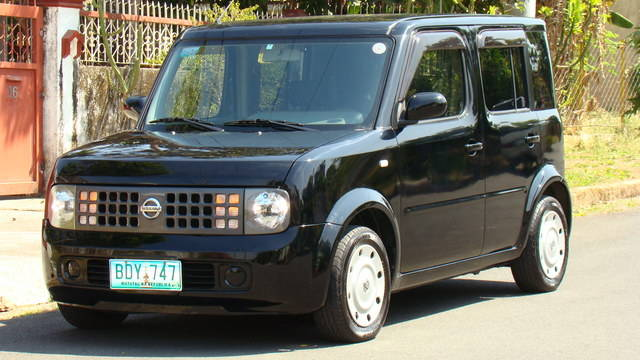front_view: (2, 80, 321, 248)
headlight: (131, 86, 279, 133)
side_glass: (403, 11, 578, 94)
